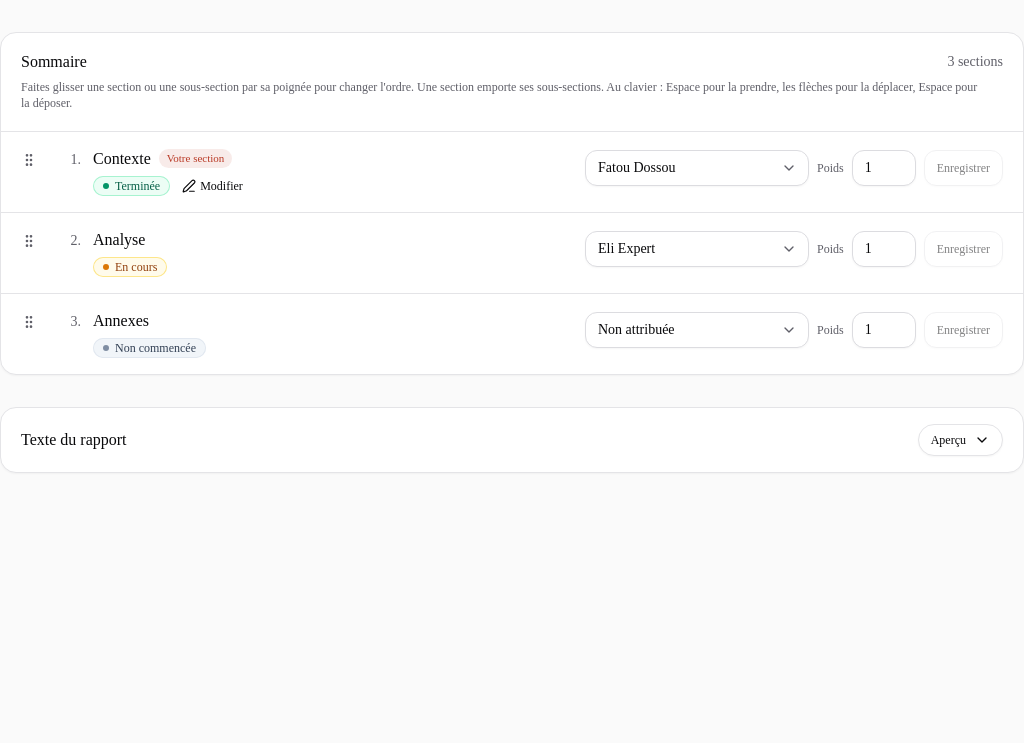
Test: MasterReport for a manager › puts the order back and says so when the save fails
The width and height of the screenshot is (1024, 743).
Click the button with aria-label "Aperçu du texte du rapport" at (960, 440), box [918,424,1003,456]
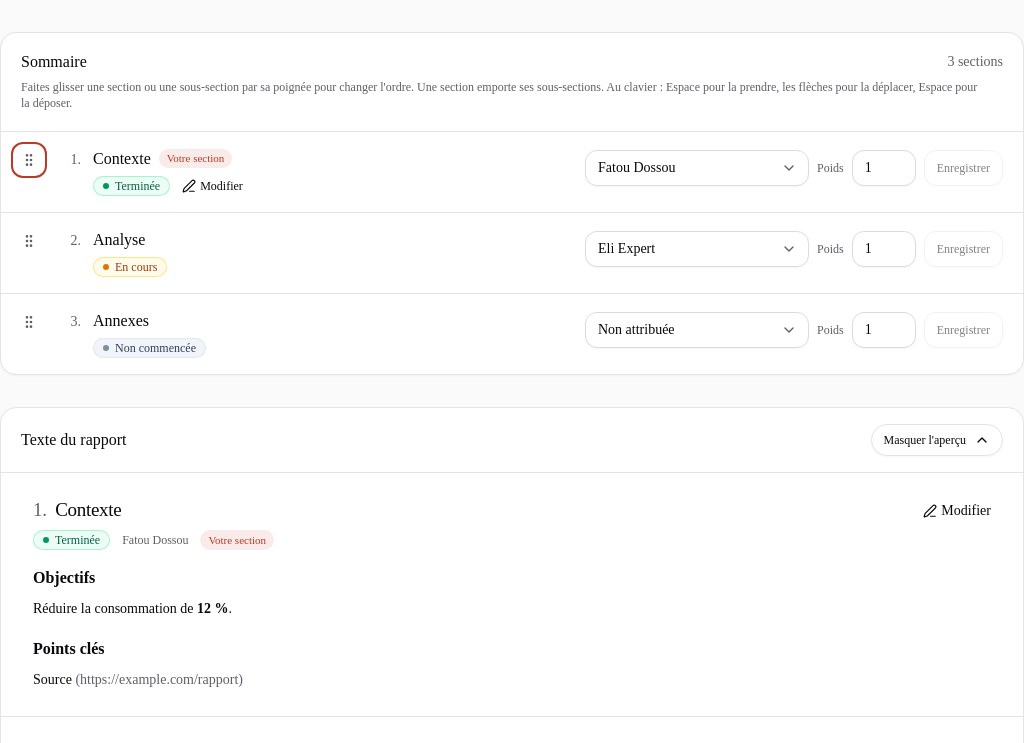
Press Space in the button named "Déplacer la section Contexte", box [13,144,45,176]
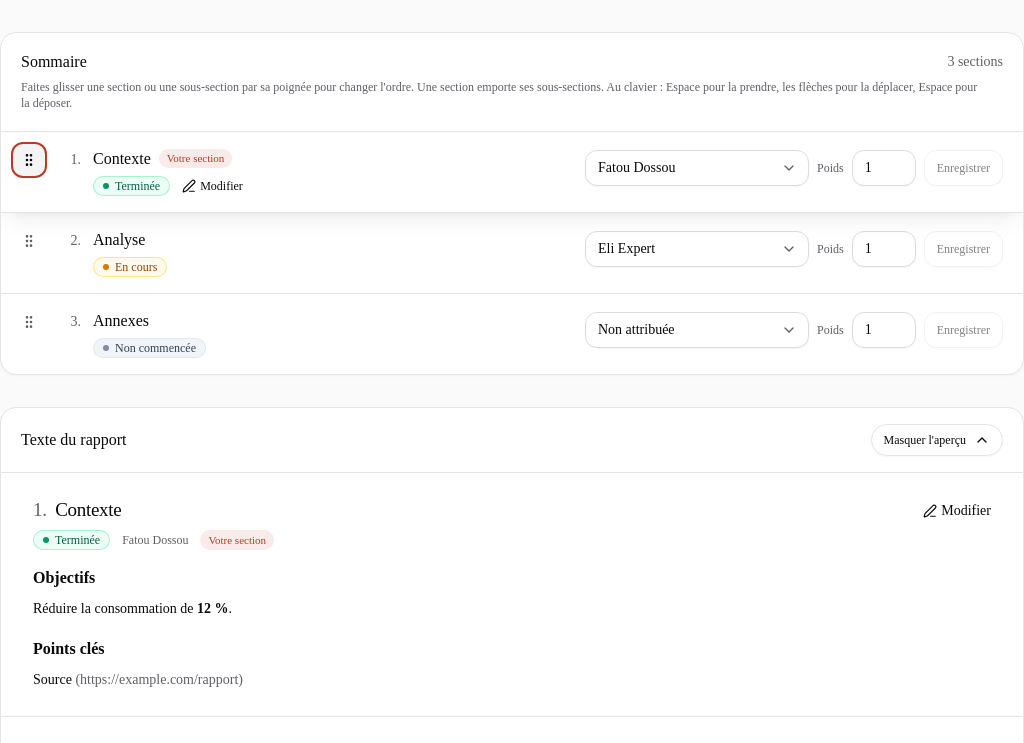
Press ArrowDown
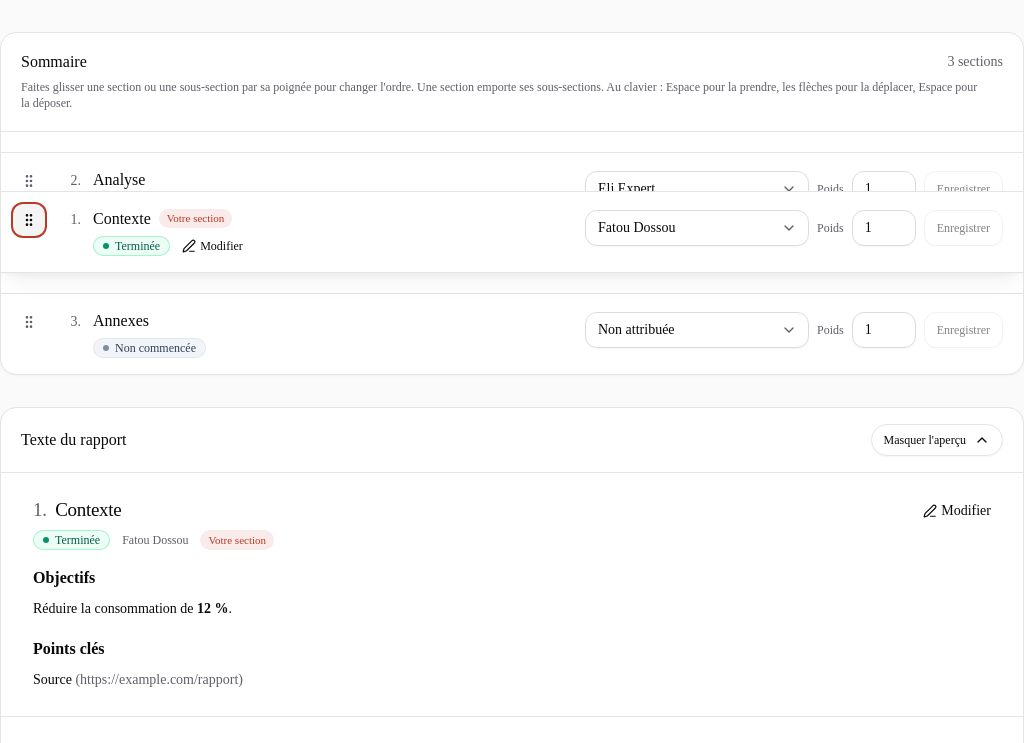
Press Space
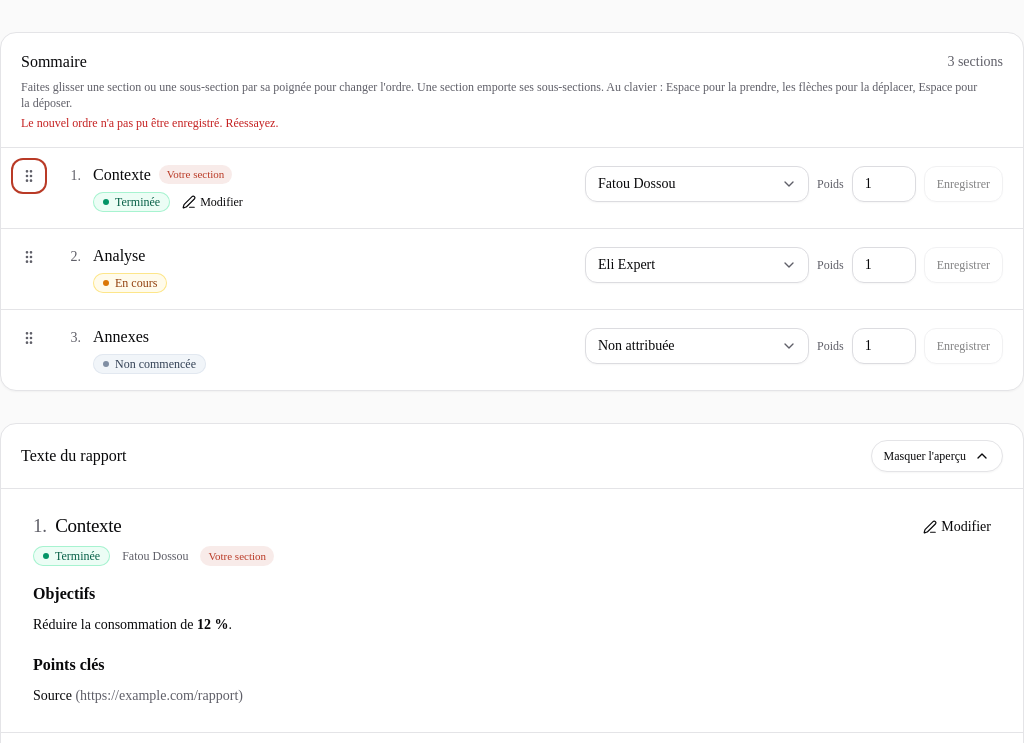
Expected: the message reads "Le nouvel ordre n'a pas pu être enregistré. Réessayez.", [21,116,278,130]
